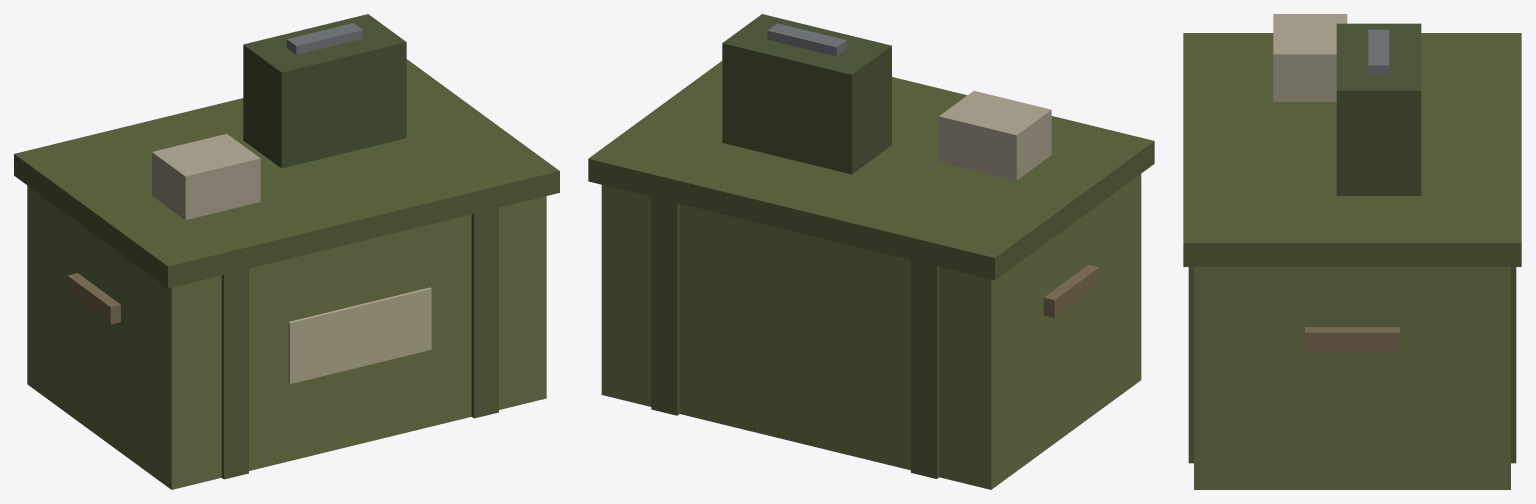
File: prop_supply_crate.glb
3 renders of one model, left to right at view 1: azimuth 30°, elevation 25°; view 2: azimuth 150°, elevation 25°; view 3: azimuth 270°, elevation 25°, orthographic. The views are drawn at different scales.
Parts seen in each view (by area): view 1: prop_supply_crate; view 2: prop_supply_crate; view 3: prop_supply_crate.
Part boxes in pixels (x1=…): prop_supply_crate: x1=14, y1=14, x2=559, y2=489; prop_supply_crate: x1=588, y1=14, x2=1154, y2=489; prop_supply_crate: x1=1183, y1=14, x2=1521, y2=489.
Size of the model in its own units: 0.95 by 0.77 by 0.64.
